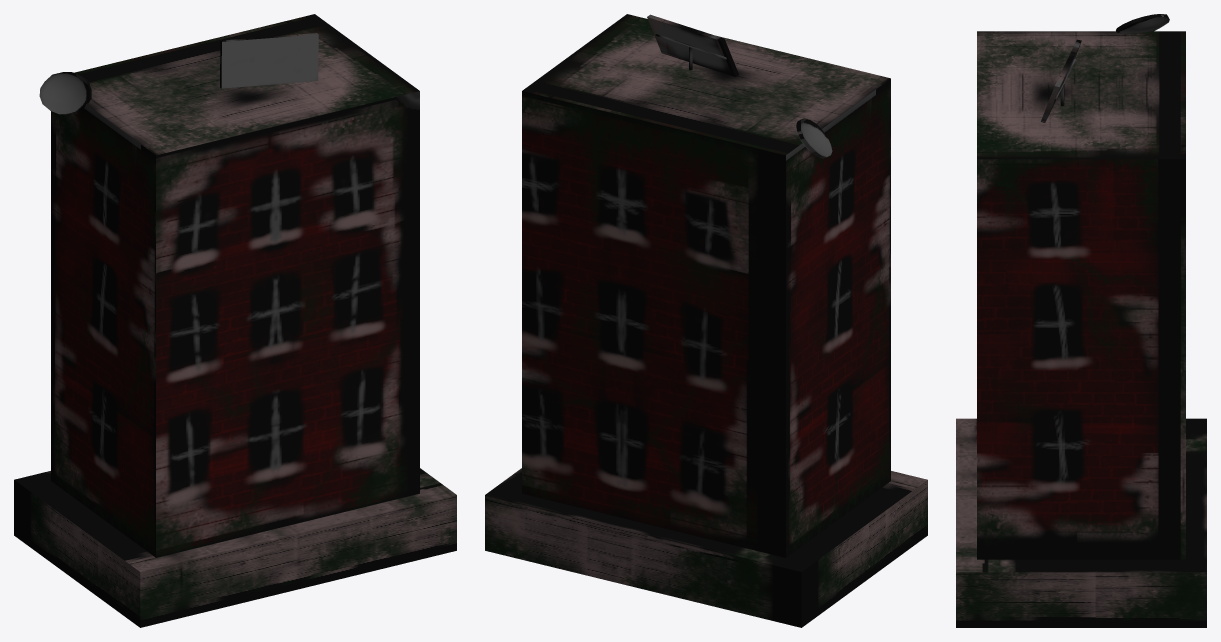
Rendered from Love Hotel.fbx.
The picture shows the model from 3 angles, left to right: view 1: azimuth 30°, elevation 25°; view 2: azimuth 150°, elevation 25°; view 3: azimuth 270°, elevation 25°; orthographic projection.
Visible parts, largest first — view 1: loveHotel_geo; view 2: loveHotel_geo; view 3: loveHotel_geo.
Boxes of the visible parts, left/top/right/bottom form: loveHotel_geo: left=14, top=14, right=456, bottom=627; loveHotel_geo: left=485, top=14, right=927, bottom=627; loveHotel_geo: left=956, top=14, right=1206, bottom=627.
Bounding box in the file's own units: 265 × 405 × 183.
